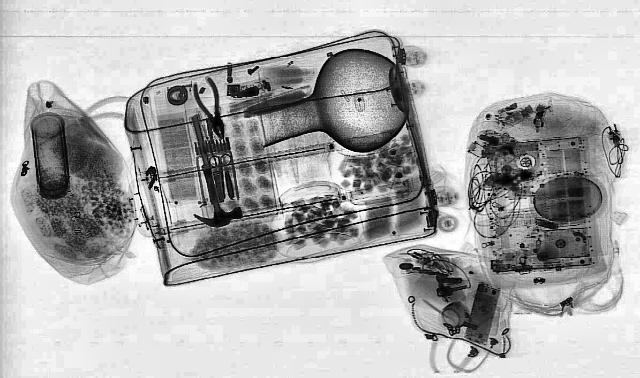Pliers: (188, 77, 232, 138)
Scissors: (206, 154, 234, 192)
